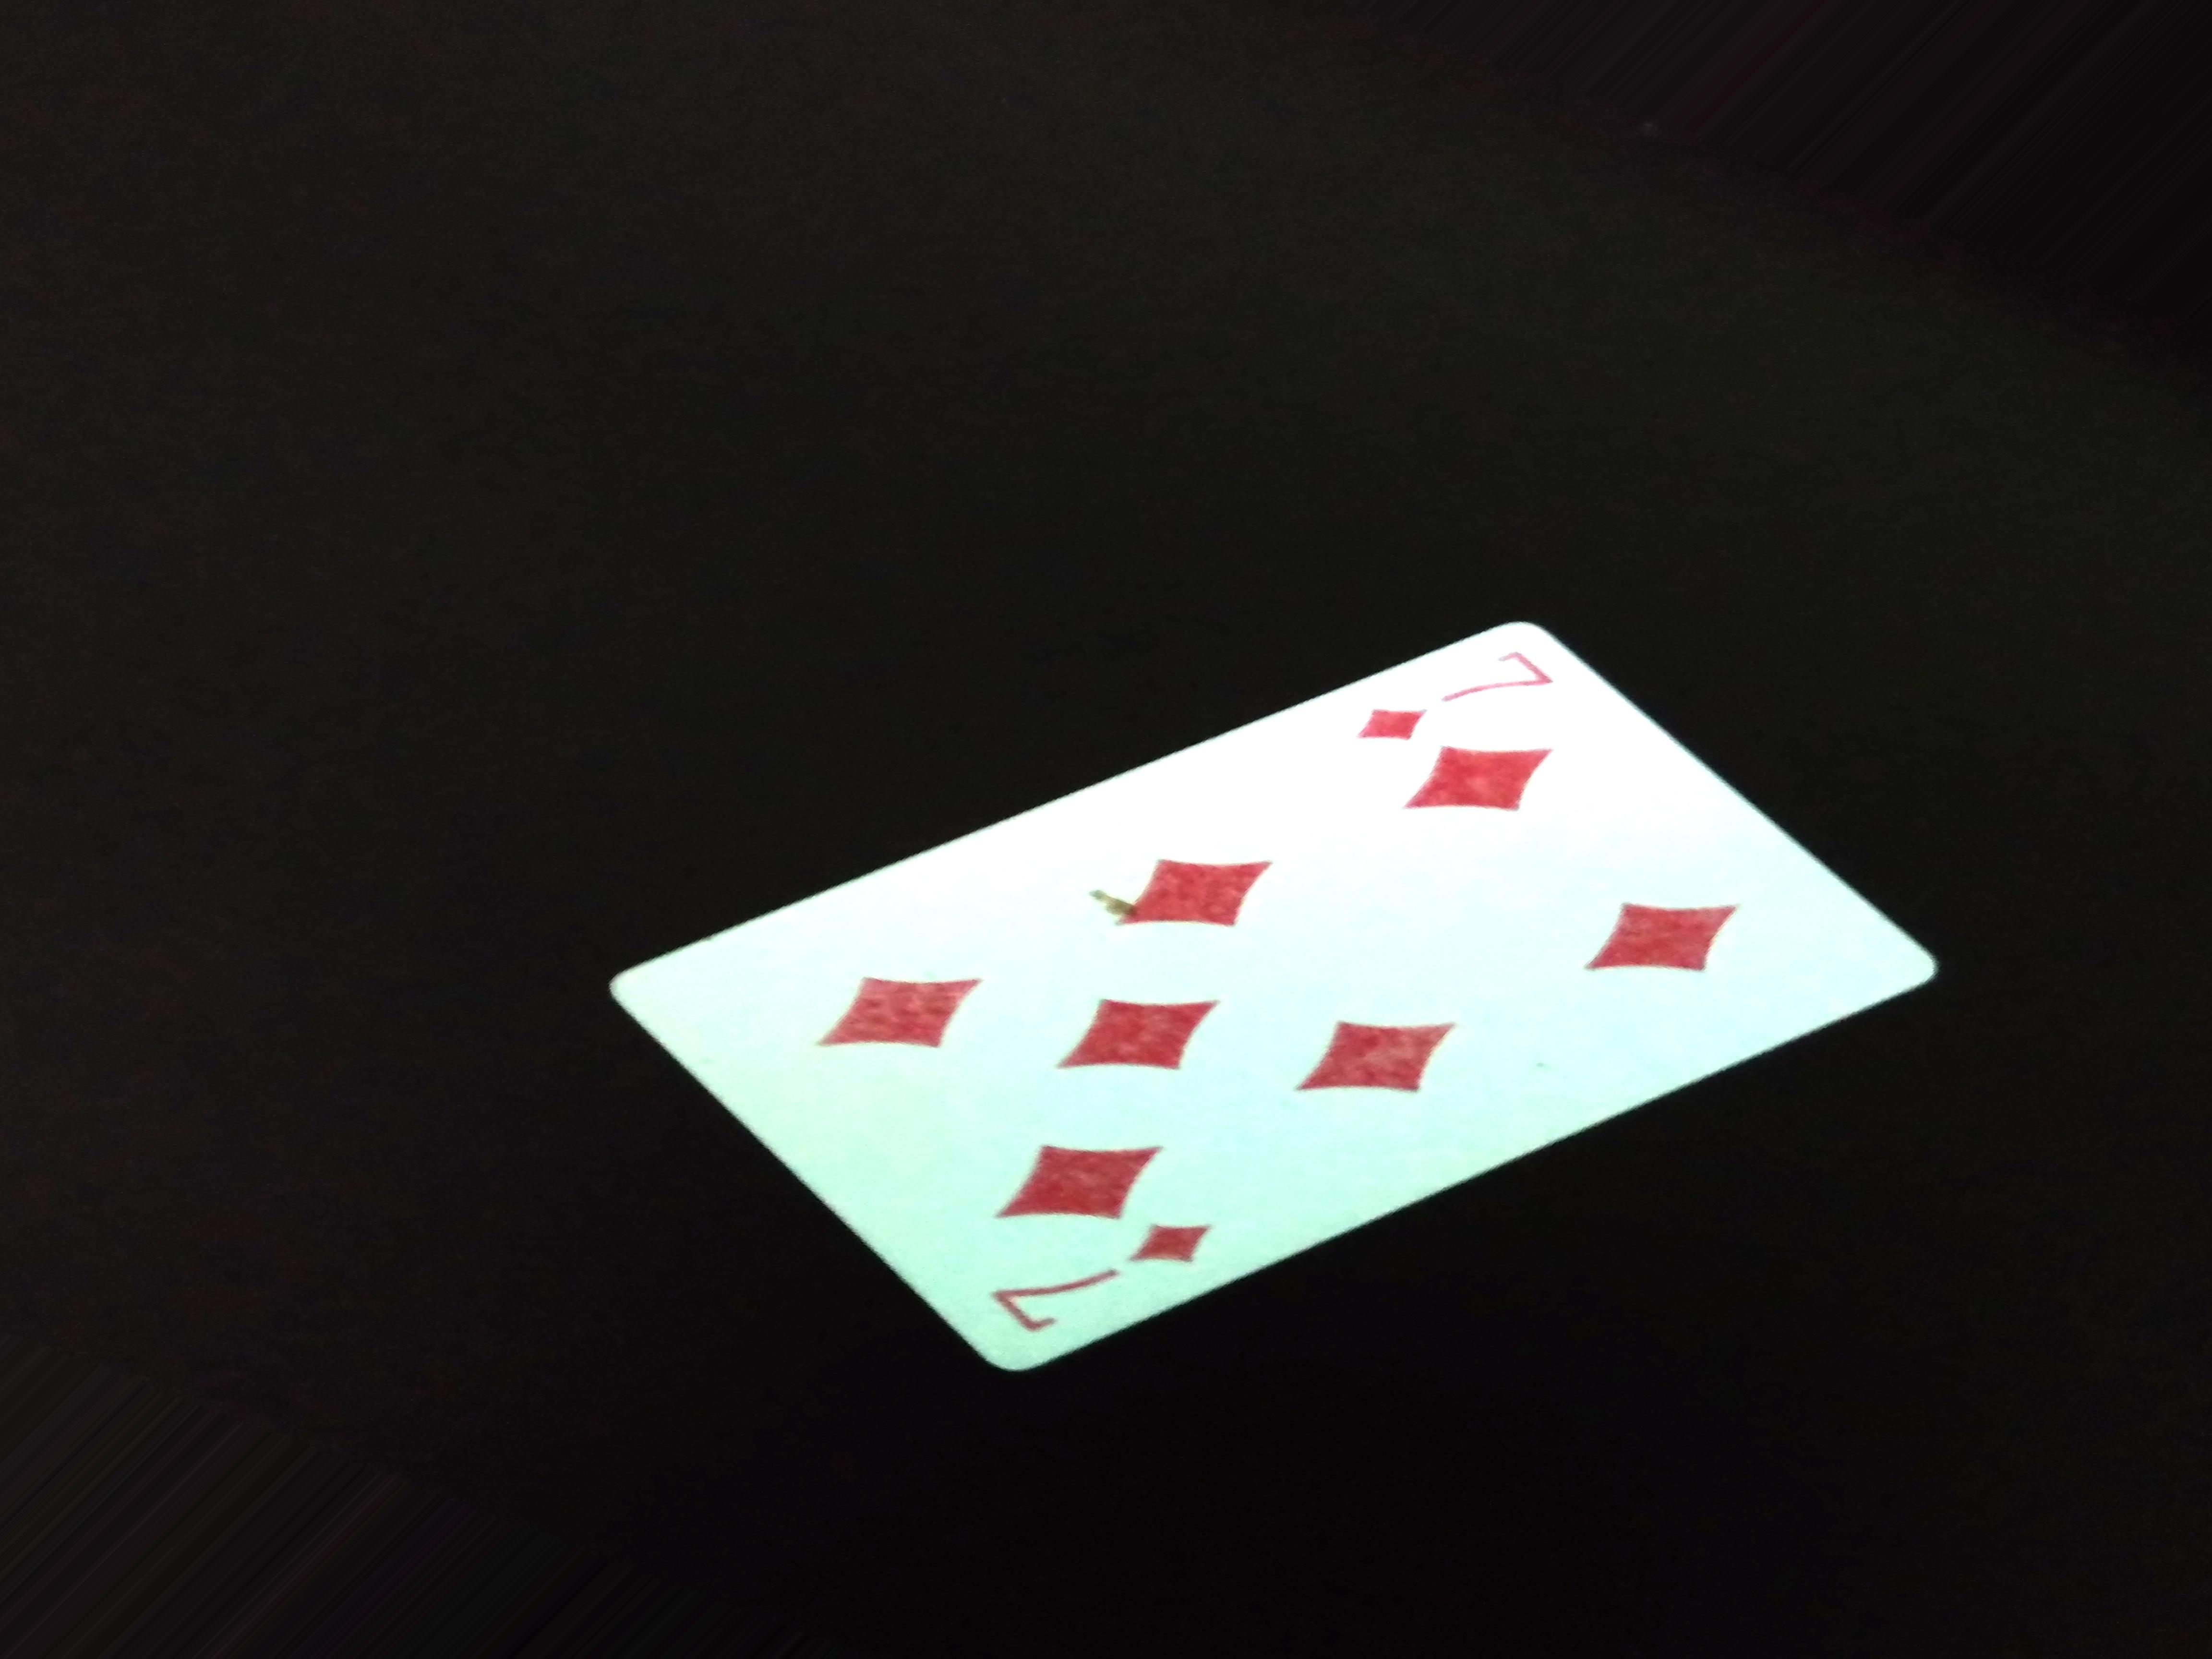7D: (961, 1208, 1235, 1310)
